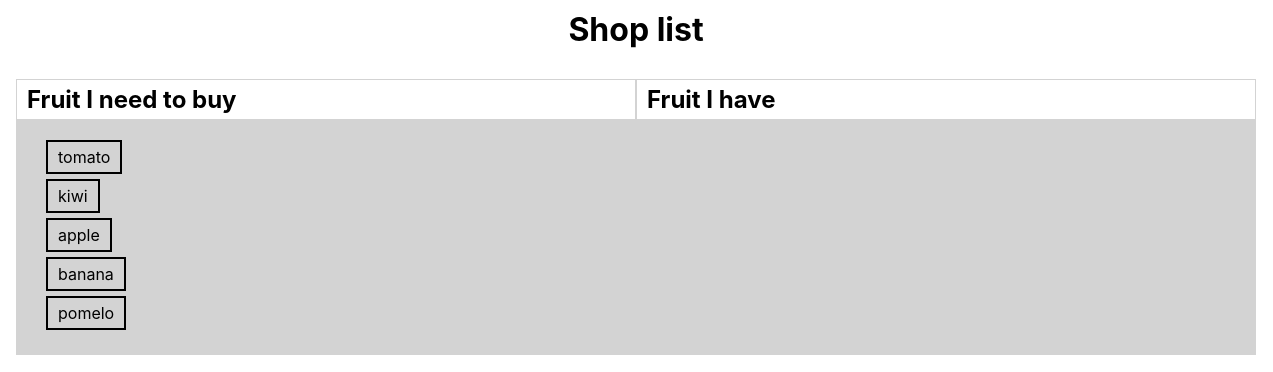
moving an item from PickedList to ShoppingList works
Click the text "tomato" at (84, 157), box x1=46 y1=140 x2=122 y2=174
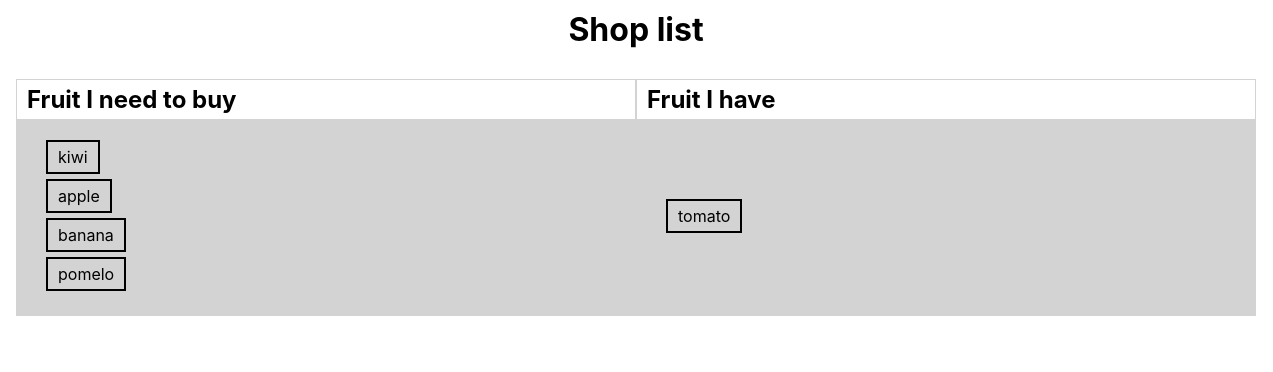
Click the text "tomato" at (704, 216), box x1=666 y1=198 x2=742 y2=232
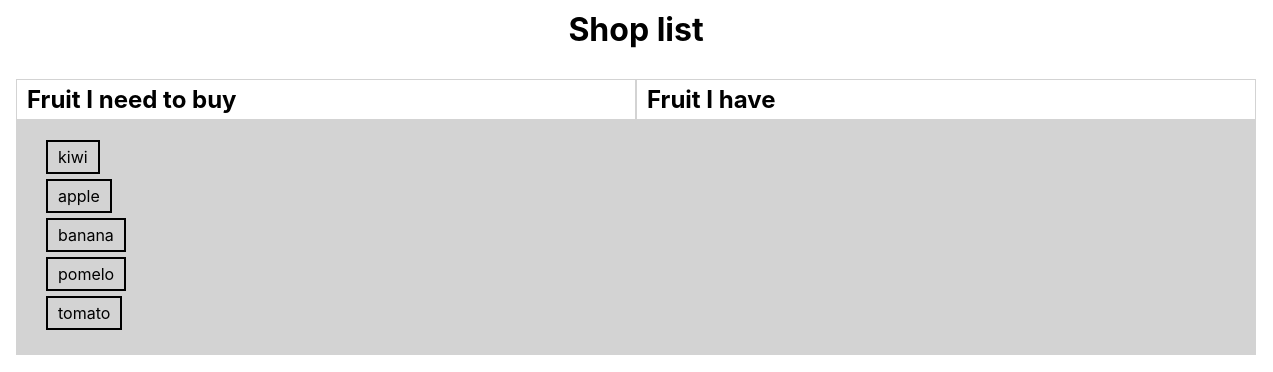
Result: the number of list items with test id "shopping-list-item" is 5 at x1=46 y1=140 x2=100 y2=179; x1=46 y1=179 x2=112 y2=218; x1=46 y1=218 x2=126 y2=257; x1=46 y1=257 x2=126 y2=296; x1=46 y1=296 x2=122 y2=335
Result: no list items with test id "picked-list-item" are shown
